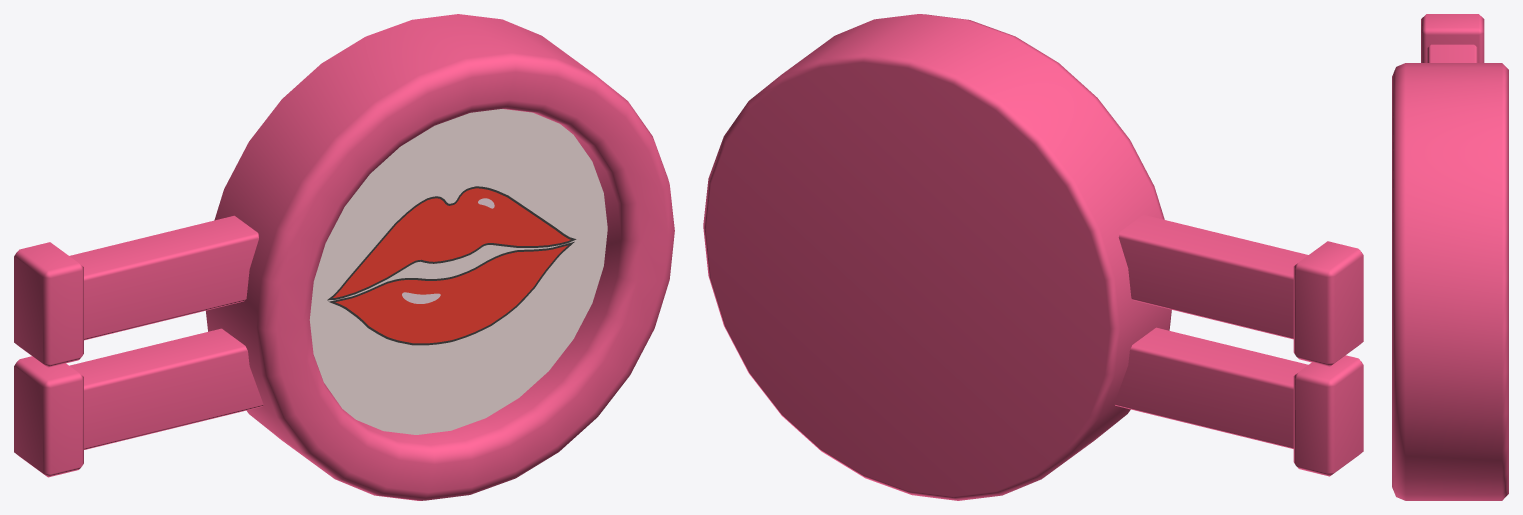
The model's file is Store_17_Beauty_Sign_1.glb.
The picture shows the model from 3 angles, left to right: view 1: azimuth 30°, elevation 25°; view 2: azimuth 150°, elevation 25°; view 3: azimuth 270°, elevation 25°; orthographic projection. The views are drawn at different scales.
Parts seen in each view (by area): view 1: Store_17_Beauty_Sign_1; view 2: Store_17_Beauty_Sign_1; view 3: Store_17_Beauty_Sign_1.
Part boxes in pixels (<box>): Store_17_Beauty_Sign_1: <box>14,14,674,500</box>; Store_17_Beauty_Sign_1: <box>703,14,1363,500</box>; Store_17_Beauty_Sign_1: <box>1392,14,1508,500</box>.
Size of the model in its own units: 2.25 by 1.52 by 0.4044.
Materials: 1 (1 with a texture image).
